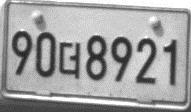0: (35, 31, 56, 78)
1: (163, 38, 178, 87)
2: (134, 36, 157, 85)
8: (85, 34, 108, 82)
9: (110, 36, 132, 82), (11, 29, 32, 76)
더: (59, 41, 80, 80)
